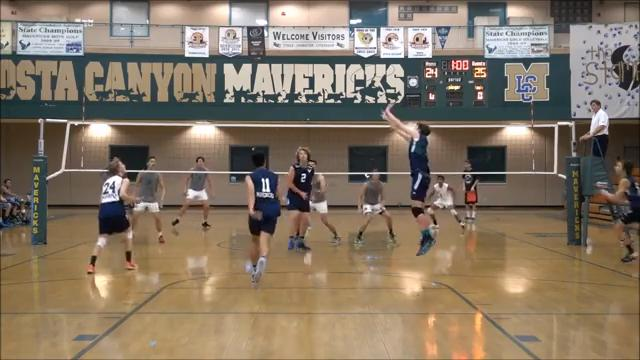Player: (87, 160, 137, 273), (245, 153, 280, 284), (601, 160, 639, 262), (354, 169, 396, 246), (171, 156, 212, 229), (131, 156, 165, 242), (287, 147, 314, 250), (310, 172, 340, 244), (427, 175, 464, 228), (462, 160, 478, 220)
Set: (379, 101, 445, 258)
